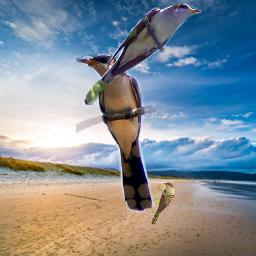Cuckoo: (76, 54, 156, 214), (84, 3, 202, 105), (151, 182, 174, 224)
